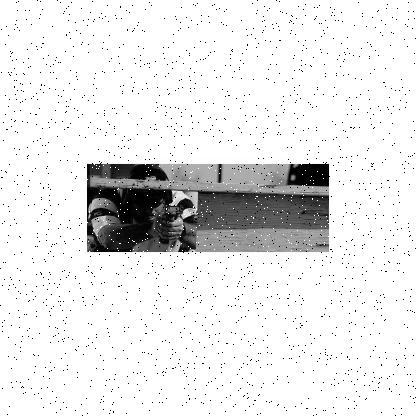gun: (158, 203, 184, 245)
